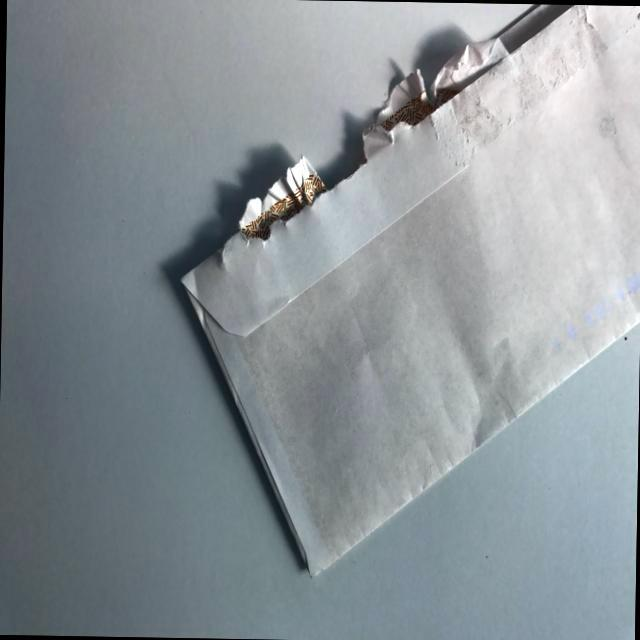paper: (151, 0, 640, 583)
